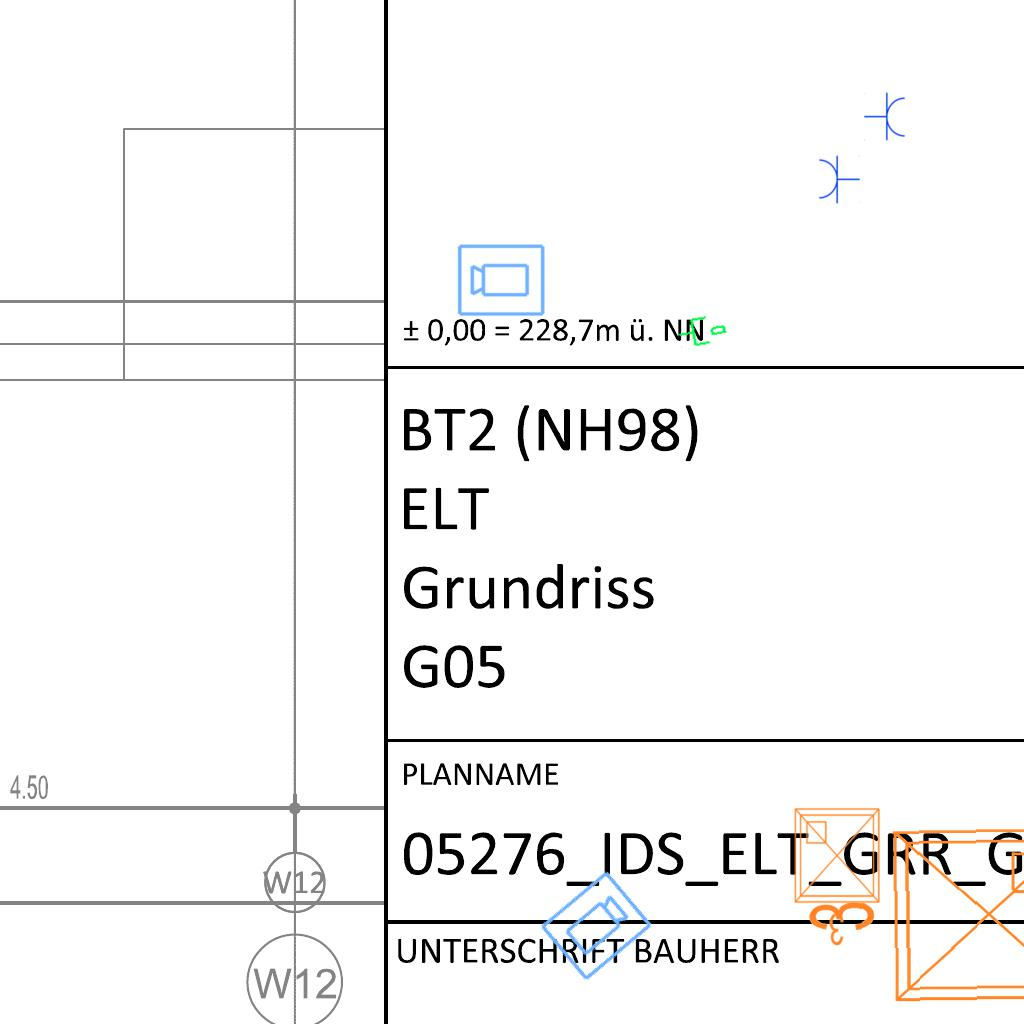Datenanschluss_einfach: (674, 308, 730, 352)
Einbaudownlights_LED_Konferenzraeume: (796, 812, 1024, 1024), (787, 801, 891, 951)
KFO_Kamera_mit_Festobjektiv: (536, 867, 657, 986), (456, 241, 547, 318)
Schukosteckdose_einfach: (817, 154, 860, 204), (864, 92, 907, 142)
